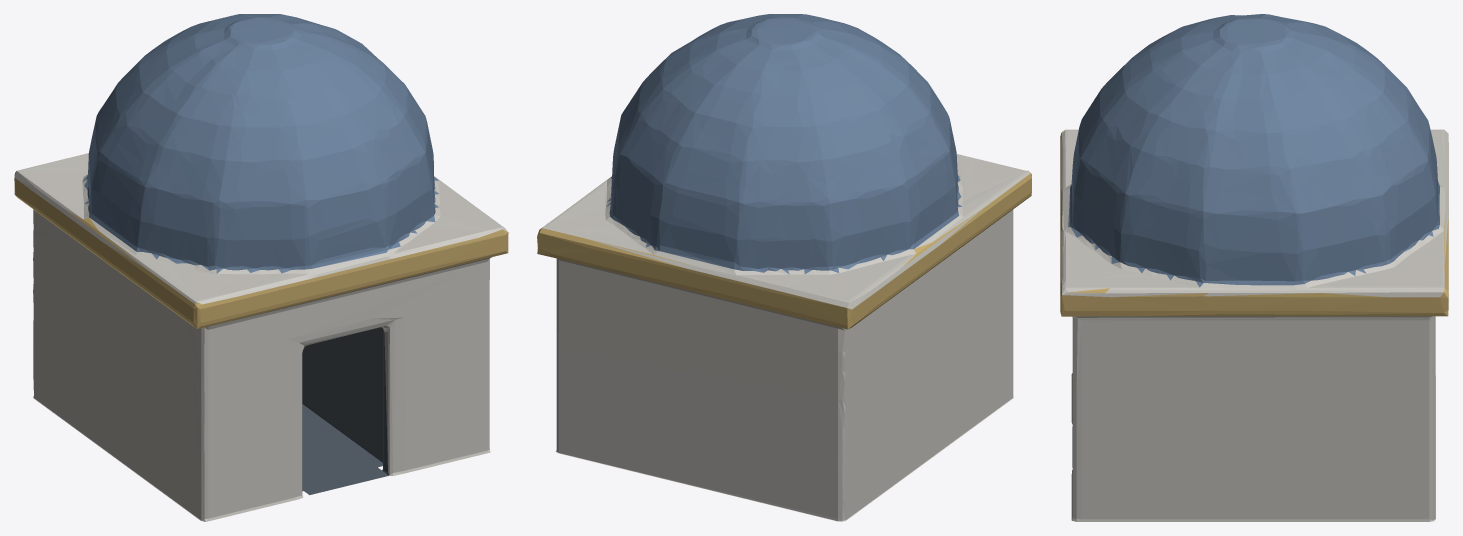
The picture shows the model from 3 angles, left to right: view 1: azimuth 30°, elevation 25°; view 2: azimuth 150°, elevation 25°; view 3: azimuth 270°, elevation 25°; orthographic projection. The views are drawn at different scales.
Parts seen in each view (by area): view 1: geometry_0; view 2: geometry_0; view 3: geometry_0.
Part boxes in pixels (bbox=[...]): geometry_0: bbox=[14, 14, 508, 521]; geometry_0: bbox=[537, 14, 1031, 521]; geometry_0: bbox=[1060, 14, 1448, 521].
Bounding box in the file's own units: 0.7402 × 0.8869 × 0.7515.
